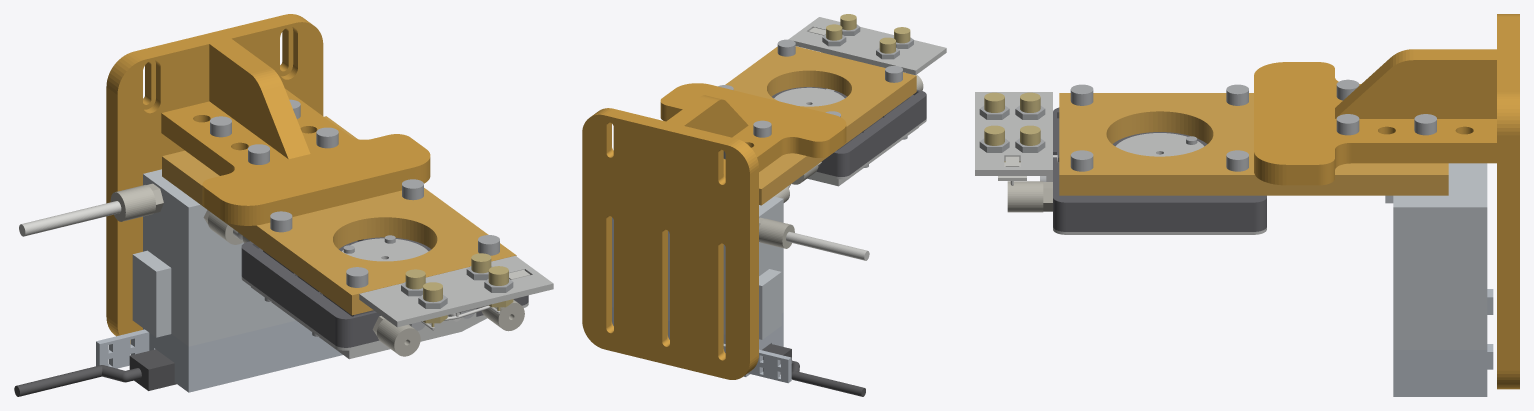
The model's file is v46m_2t_dark.glb.
3 views of the same model, side by side, from view 1: azimuth 30°, elevation 25°; view 2: azimuth 150°, elevation 25°; view 3: azimuth 270°, elevation 25° (orthographic). The views are drawn at different scales.
Visible parts, largest first — view 1: Grace 2025 앵글 브래킷 "angle bracket for Ramen holder.STEP" (형상 , Grace 새 세로판 60x120x7 (재출력, 레진 가정), Ø4.5 x4 48x48, 가운데 Ø33 구멍, [배기 블록 v2] 배기 센서 블록 본체 PETG 60x29x48.5 (가스 몸 17.5 + 센서 칸 31,, [배기 블록 v2] 덮개 PETG 60x29x16 (판 2 + Pico 트레이 14): Pico 보스 4, , 셀 몸체 Al 6061 흑색 아노다이징 70x66x10 R4 (포켓 31x31x4.5 R1.5, 블록 자리 , 커넥터 브래킷 Al (밑판 26x18x2 + 판 57x24x2): SMA 구멍 Ø6.5 x4 (3열 x 2행, [배기 블록 v2] USB 케이블 (노트북으로, 타이로 선반에 고정; 노트북은 허치 안 가능), 가스 KQ2H04-M5 x2 윗면 (+X 입구, −X 예비 N2/He), Ø2 → 앞면 (±19, +22), SMA 암 판넬 잭 x4 (SAMZO SMA-KY-214형, 가정): 육각 어깨 AF 8 x 3 (판 앞),, M4x12 렌치볼트 x4 (판 뒤에서 몸체 M4 탭으로, 머리 Ø7x4), 텐트 틀 Al: 플랜지 1.0 (몸체 외곽, 안쪽 X -28.5…24.9, Z ±28.5) + 벽 2.5, , M4x16 볼트 + 너트 x4 (판 아래 구멍 ↔ 브래킷 세움판 Ø5.6 구멍 y 29/53) (+5 smaller); view 2: Grace 2025 앵글 브래킷 "angle bracket for Ramen holder.STEP" (형상 , Grace 새 세로판 60x120x7 (재출력, 레진 가정), Ø4.5 x4 48x48, 가운데 Ø33 구멍, 셀 몸체 Al 6061 흑색 아노다이징 70x66x10 R4 (포켓 31x31x4.5 R1.5, 블록 자리 , 커넥터 브래킷 Al (밑판 26x18x2 + 판 57x24x2): SMA 구멍 Ø6.5 x4 (3열 x 2행, [배기 블록 v2] 배기 센서 블록 본체 PETG 60x29x48.5 (가스 몸 17.5 + 센서 칸 31,, [배기 블록 v2] 덮개 PETG 60x29x16 (판 2 + Pico 트레이 14): Pico 보스 4, , [배기 블록 v2] USB 케이블 (노트북으로, 타이로 선반에 고정; 노트북은 허치 안 가능), SMA 암 판넬 잭 x4 (SAMZO SMA-KY-214형, 가정): 육각 어깨 AF 8 x 3 (판 앞),, 어두움 마개 Al Ø15.8 + 단 Ø19.8 (카운터보어 안) + 나사 턱 Ø29x0.6 + 뒷면 가운데 , [배기 블록 v2] 배출 PU 관 Ø4 (토막만 그림, 실제 >= 300 mm), [배기 블록 v2] KQ2H04-M5 출구 (-X 끝면, 배출 관 >= 30 cm), M4x12 렌치볼트 x4 (판 뒤에서 몸체 M4 탭으로, 머리 Ø7x4) (+3 smaller); view 3: Grace 2025 앵글 브래킷 "angle bracket for Ramen holder.STEP" (형상 , Grace 새 세로판 60x120x7 (재출력, 레진 가정), Ø4.5 x4 48x48, 가운데 Ø33 구멍, [배기 블록 v2] 배기 센서 블록 본체 PETG 60x29x48.5 (가스 몸 17.5 + 센서 칸 31,, 셀 몸체 Al 6061 흑색 아노다이징 70x66x10 R4 (포켓 31x31x4.5 R1.5, 블록 자리 , [배기 블록 v2] 덮개 PETG 60x29x16 (판 2 + Pico 트레이 14): Pico 보스 4, , 커넥터 브래킷 Al (밑판 26x18x2 + 판 57x24x2): SMA 구멍 Ø6.5 x4 (3열 x 2행, M4x12 렌치볼트 x4 (판 뒤에서 몸체 M4 탭으로, 머리 Ø7x4), SMA 암 판넬 잭 x4 (SAMZO SMA-KY-214형, 가정): 육각 어깨 AF 8 x 3 (판 앞),, 어두움 마개 Al Ø15.8 + 단 Ø19.8 (카운터보어 안) + 나사 턱 Ø29x0.6 + 뒷면 가운데 , 가스 KQ2H04-M5 x2 윗면 (+X 입구, −X 예비 N2/He), Ø2 → 앞면 (±19, +22), M4x16 볼트 + 너트 x4 (판 아래 구멍 ↔ 브래킷 세움판 Ø5.6 구멍 y 29/53), SMA 너트 AF 8 (모서리 9.24) x 2 x4 (판 뒷면 Y 18–20; 평면이 ±X를 봄 → 렌치는 (+1 smaller).
Boxes of the visible parts, x1,y1,x2,y2 form: Grace 2025 앵글 브래킷 "angle bracket for Ramen holder.STEP" (형상 : (106,14,430,343); Grace 새 세로판 60x120x7 (재출력, 레진 가정), Ø4.5 x4 48x48, 가운데 Ø33 구멍: (162,116,516,315); [배기 블록 v2] 배기 센서 블록 본체 PETG 60x29x48.5 (가스 몸 17.5 + 센서 칸 31,: (132,169,295,346); [배기 블록 v2] 덮개 PETG 60x29x16 (판 2 + Pico 트레이 14): Pico 보스 4, : (96,320,342,392); 셀 몸체 Al 6061 흑색 아노다이징 70x66x10 R4 (포켓 31x31x4.5 R1.5, 블록 자리 : (241,237,528,347); 커넥터 브래킷 Al (밑판 26x18x2 + 판 57x24x2): SMA 구멍 Ø6.5 x4 (3열 x 2행: (359,255,553,333); [배기 블록 v2] USB 케이블 (노트북으로, 타이로 선반에 고정; 노트북은 허치 안 가능): (14,349,176,396); 가스 KQ2H04-M5 x2 윗면 (+X 입구, −X 예비 N2/He), Ø2 → 앞면 (±19, +22): (372,299,524,356); SMA 암 판넬 잭 x4 (SAMZO SMA-KY-214형, 가정): 육각 어깨 AF 8 x 3 (판 앞),: (405,253,513,327); M4x12 렌치볼트 x4 (판 뒤에서 몸체 M4 탭으로, 머리 Ø7x4): (270,179,499,287); 텐트 틀 Al: 플랜지 1.0 (몸체 외곽, 안쪽 X -28.5…24.9, Z ±28.5) + 벽 2.5, : (241,276,528,358); M4x16 볼트 + 너트 x4 (판 아래 구멍 ↔ 브래킷 세움판 Ø5.6 구멍 y 29/53): (210,99,338,164); Grace 2025 앵글 브래킷 "angle bracket for Ramen holder.STEP" (형상 : (582,83,846,379); Grace 새 세로판 60x120x7 (재출력, 레진 가정), Ø4.5 x4 48x48, 가운데 Ø33 구멍: (725,46,916,205); 셀 몸체 Al 6061 흑색 아노다이징 70x66x10 R4 (포켓 31x31x4.5 R1.5, 블록 자리 : (772,87,926,176); 커넥터 브래킷 Al (밑판 26x18x2 + 판 57x24x2): SMA 구멍 Ø6.5 x4 (3열 x 2행: (788,17,946,75); [배기 블록 v2] 배기 센서 블록 본체 PETG 60x29x48.5 (가스 몸 17.5 + 센서 칸 31,: (612,196,783,339); [배기 블록 v2] 덮개 PETG 60x29x16 (판 2 + Pico 트레이 14): Pico 보스 4, : (612,307,791,383); [배기 블록 v2] USB 케이블 (노트북으로, 타이로 선반에 고정; 노트북은 허치 안 가능): (762,344,865,396); SMA 암 판넬 잭 x4 (SAMZO SMA-KY-214형, 가정): 육각 어깨 AF 8 x 3 (판 앞),: (826,14,910,67); 어두움 마개 Al Ø15.8 + 단 Ø19.8 (카운터보어 안) + 나사 턱 Ø29x0.6 + 뒷면 가운데 : (774,87,844,106); [배기 블록 v2] 배출 PU 관 Ø4 (토막만 그림, 실제 >= 300 mm): (786,231,869,260); [배기 블록 v2] KQ2H04-M5 출구 (-X 끝면, 배출 관 >= 30 cm): (759,217,794,248); M4x12 렌치볼트 x4 (판 뒤에서 몸체 M4 탭으로, 머리 Ø7x4): (718,39,902,117); Grace 2025 앵글 브래킷 "angle bracket for Ramen holder.STEP" (형상 : (1254,14,1519,389); Grace 새 세로판 60x120x7 (재출력, 레진 가정), Ø4.5 x4 48x48, 가운데 Ø33 구멍: (1059,93,1448,195); [배기 블록 v2] 배기 센서 블록 본체 PETG 60x29x48.5 (가스 몸 17.5 + 센서 칸 31,: (1385,163,1487,349); 셀 몸체 Al 6061 흑색 아노다이징 70x66x10 R4 (포켓 31x31x4.5 R1.5, 블록 자리 : (1053,107,1266,231); [배기 블록 v2] 덮개 PETG 60x29x16 (판 2 + Pico 트레이 14): Pico 보스 4, : (1393,289,1493,396); 커넥터 브래킷 Al (밑판 26x18x2 + 판 57x24x2): SMA 구멍 Ø6.5 x4 (3열 x 2행: (975,92,1052,181); M4x12 렌치볼트 x4 (판 뒤에서 몸체 M4 탭으로, 머리 Ø7x4): (1070,84,1248,171); SMA 암 판넬 잭 x4 (SAMZO SMA-KY-214형, 가정): 육각 어깨 AF 8 x 3 (판 앞),: (984,92,1040,162); 어두움 마개 Al Ø15.8 + 단 Ø19.8 (카운터보어 안) + 나사 턱 Ø29x0.6 + 뒷면 가운데 : (1115,133,1204,156); 가스 KQ2H04-M5 x2 윗면 (+X 입구, −X 예비 N2/He), Ø2 → 앞면 (±19, +22): (1007,181,1052,212); M4x16 볼트 + 너트 x4 (판 아래 구멍 ↔ 브래킷 세움판 Ø5.6 구멍 y 29/53): (1336,79,1436,135); SMA 너트 AF 8 (모서리 9.24) x 2 x4 (판 뒷면 Y 18–20; 평면이 ±X를 봄 → 렌치는: (979,105,1045,152).
Bounding box in the file's own units: 117 × 104 × 168.
